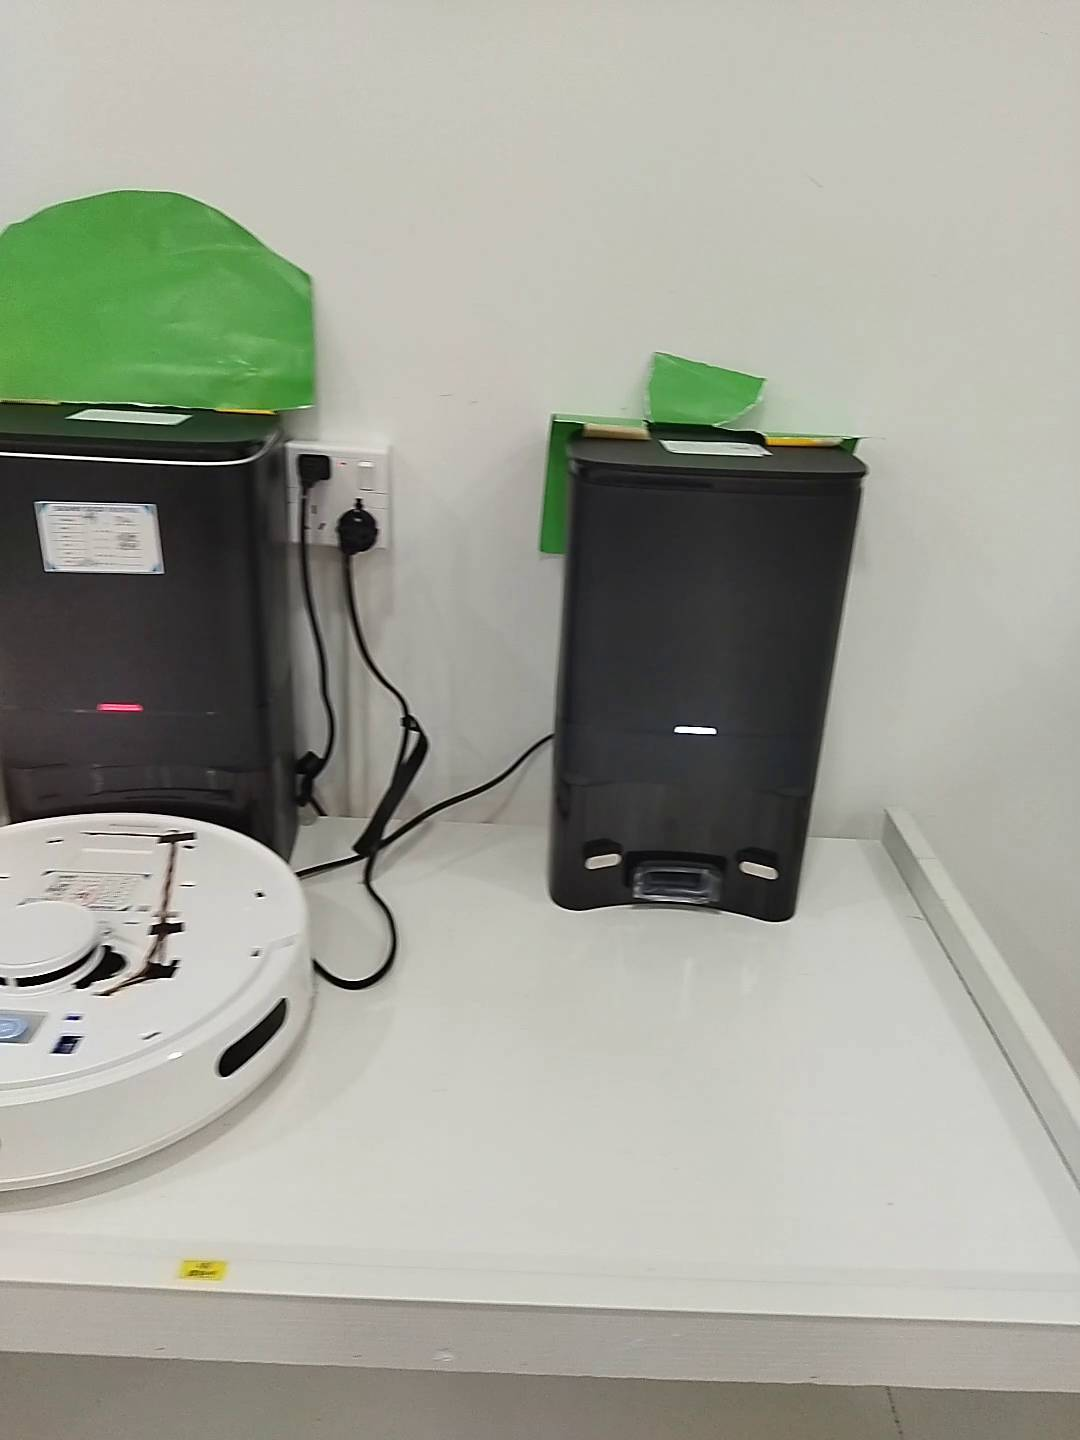dust collecting barrel: (545, 449, 866, 925), (1, 399, 298, 867)
